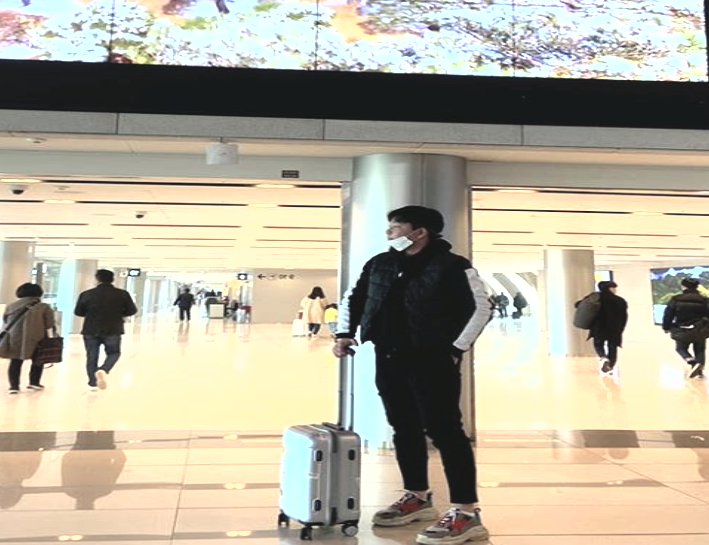mask_weared_incorrect: (380, 203, 441, 256)
